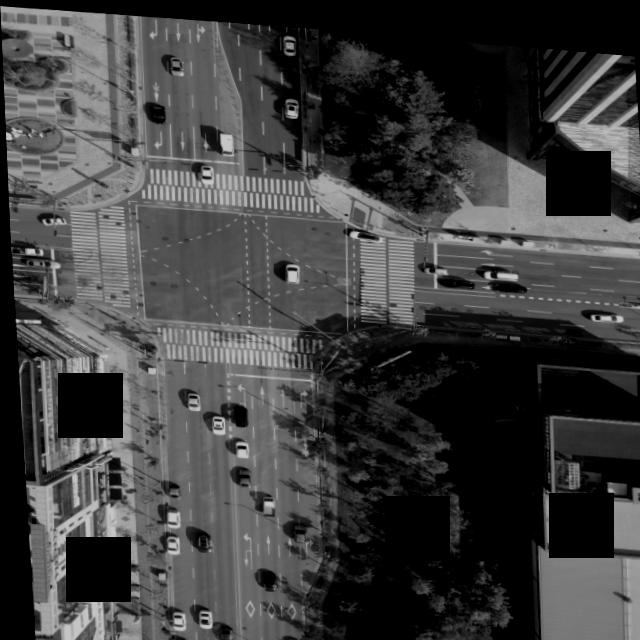car: (345, 223, 381, 237), (481, 260, 517, 273), (483, 273, 523, 284), (587, 301, 619, 313), (436, 270, 470, 281), (23, 258, 57, 269), (279, 27, 295, 49), (584, 296, 616, 307), (285, 518, 303, 537), (191, 530, 208, 549), (281, 258, 297, 278), (159, 531, 175, 551), (164, 607, 180, 627), (228, 401, 243, 422), (160, 504, 175, 524), (192, 604, 207, 623), (182, 387, 197, 406), (168, 53, 183, 72), (282, 92, 297, 111), (205, 409, 220, 428), (197, 159, 212, 178), (149, 102, 163, 122), (229, 435, 244, 453), (162, 480, 177, 498), (232, 464, 246, 483), (212, 624, 227, 640), (257, 567, 269, 587), (419, 259, 445, 268), (36, 216, 62, 225), (280, 634, 295, 640), (168, 634, 182, 640)
small_truck: (215, 126, 232, 151), (9, 245, 39, 257), (257, 492, 272, 513)
